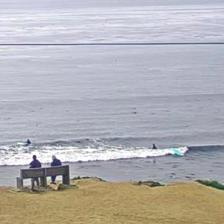surfer: (152, 143, 158, 150), (26, 139, 32, 144)
